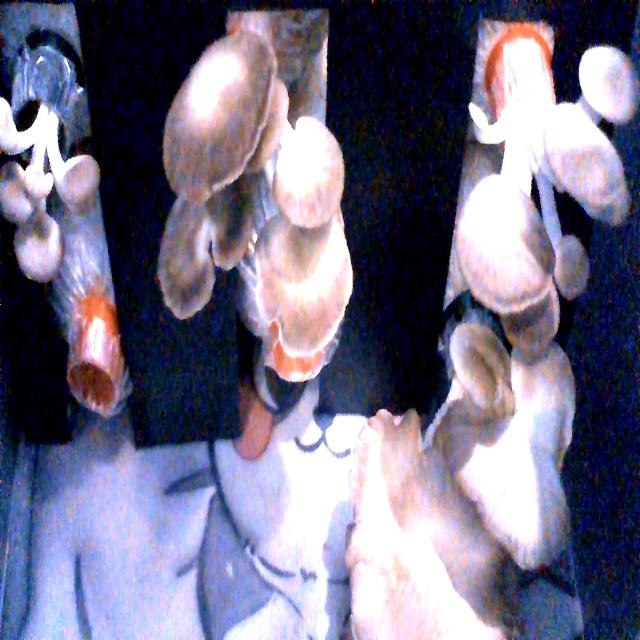big: (326, 341, 598, 640), (158, 36, 354, 377), (452, 46, 640, 354)
nfound: (58, 341, 128, 430)
small: (0, 94, 100, 288)
